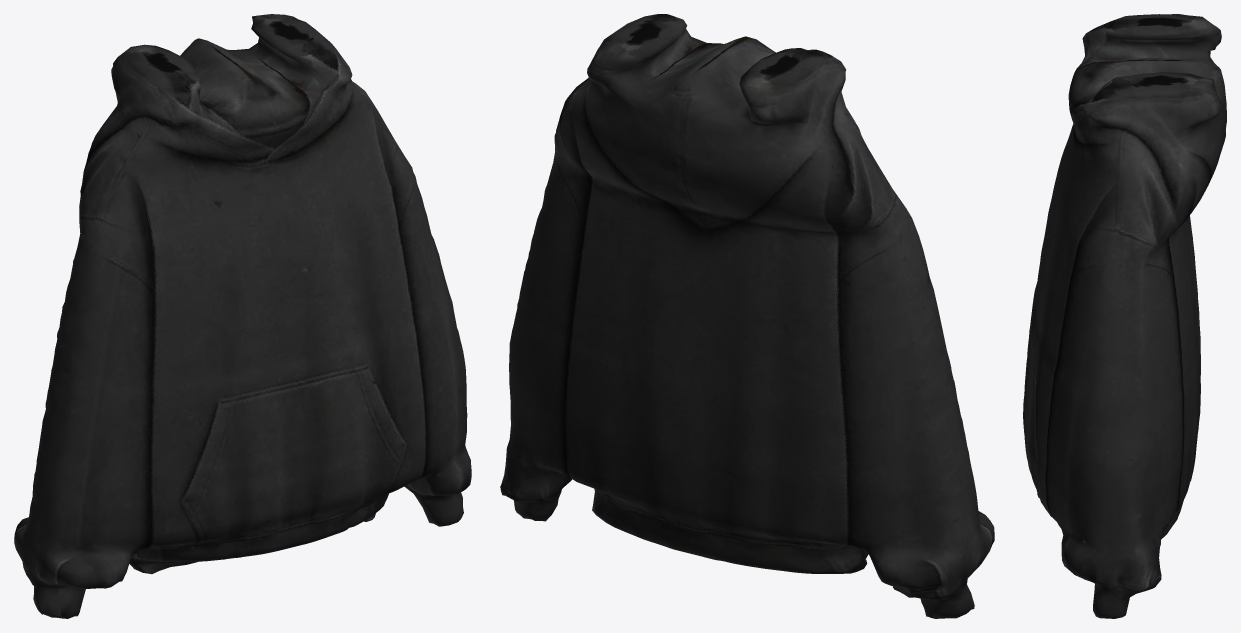
File: coal-product.glb
The picture shows the model from 3 angles, left to right: view 1: azimuth 30°, elevation 25°; view 2: azimuth 150°, elevation 25°; view 3: azimuth 270°, elevation 25°; orthographic projection. The views are drawn at different scales.
Parts seen in each view (by area): view 1: geometry_0; view 2: geometry_0; view 3: geometry_0.
Part boxes in pixels (<box>): geometry_0: <box>14,14,471,618</box>; geometry_0: <box>500,14,994,618</box>; geometry_0: <box>1023,14,1226,618</box>.
Size of the model in its own units: 0.6622 by 0.7462 by 0.2888.
Materials: 1 (1 with a texture image).
